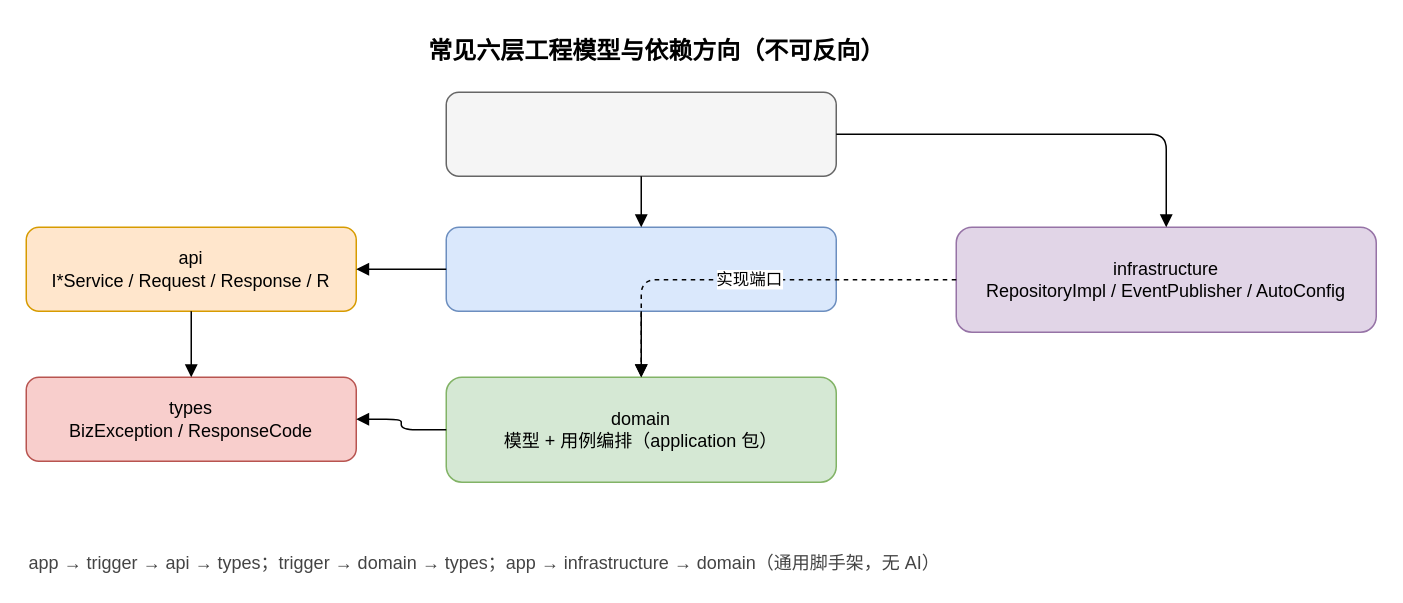
Some shapes in this 1403 by 603 pixel diagram are drawn without their labels. Each missing label, with the box of its shape:
app 启动组装 / 组件扫描: (445, 91, 836, 176)
trigger Controller / Assembler / JWT: (445, 226, 836, 311)
